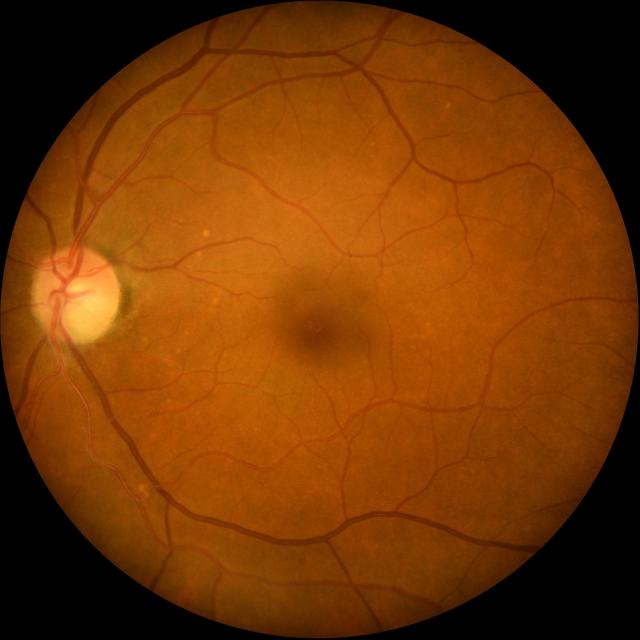OC: (52, 276, 84, 310)
OD: (32, 245, 119, 343)
